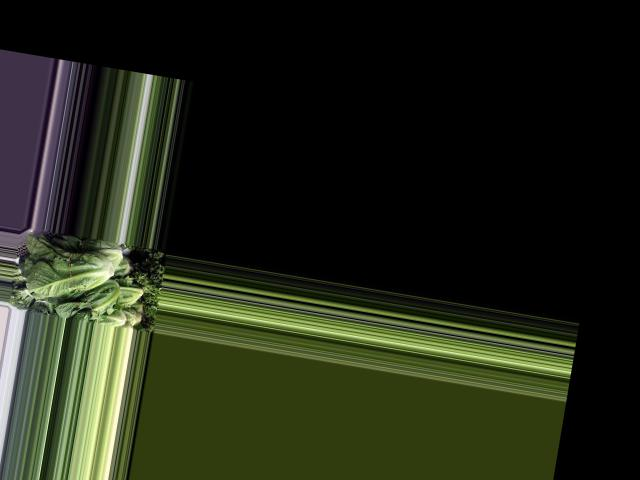lettuce: (52, 272, 124, 323)
